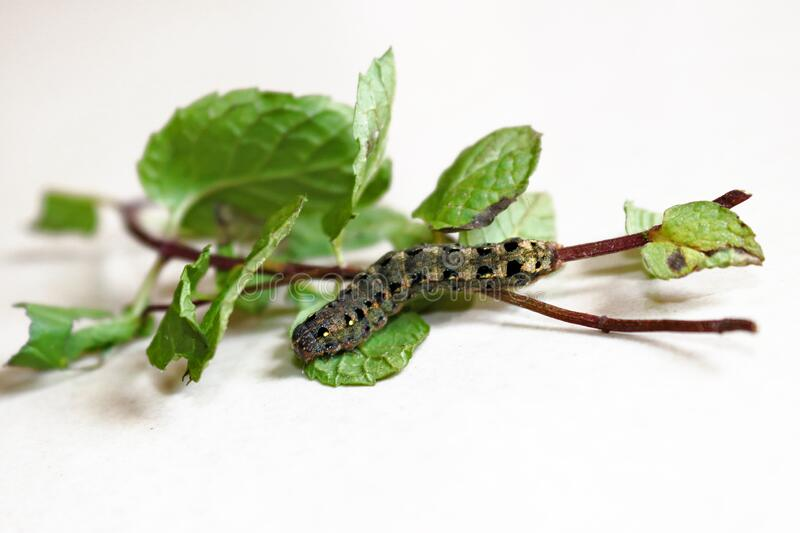Armyworm: (281, 221, 556, 389)
